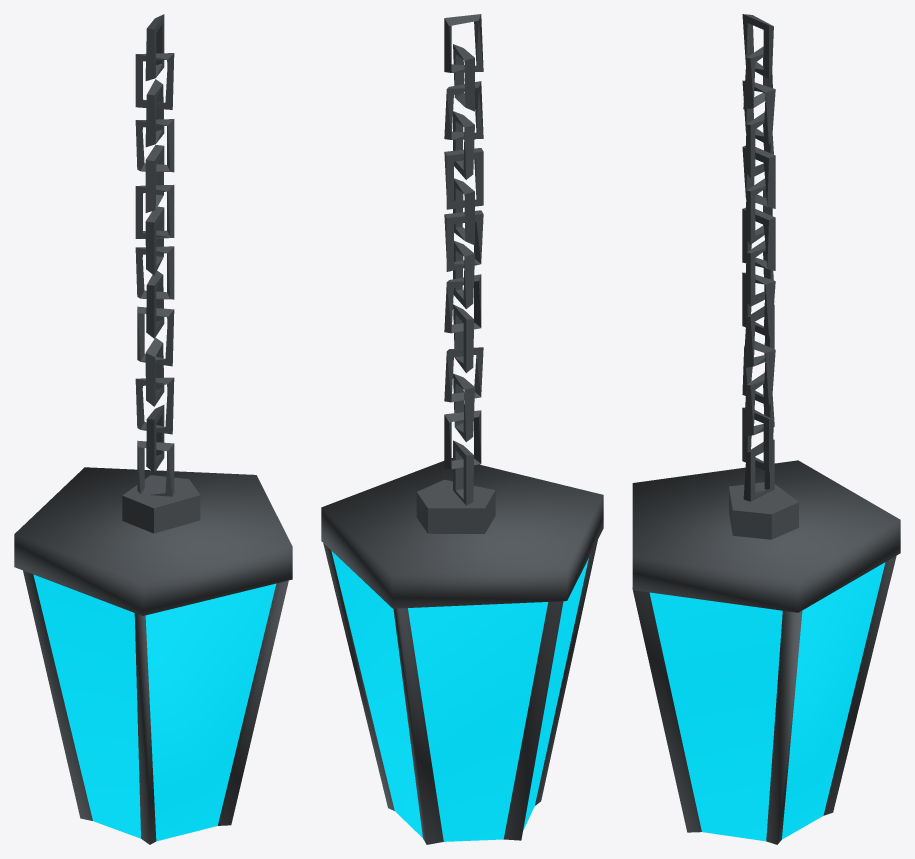
The model's file is Lamp2.glb.
3 renders of one model, left to right at view 1: azimuth 30°, elevation 25°; view 2: azimuth 150°, elevation 25°; view 3: azimuth 270°, elevation 25°, orthographic.
Parts seen in each view (by area): view 1: Lamp1; view 2: Lamp1; view 3: Lamp1.
Part boxes in pixels (x1,y1,x2,y2): Lamp1: [14, 14, 292, 844]; Lamp1: [321, 14, 603, 844]; Lamp1: [632, 14, 900, 844].
Bounding box in the file's own units: 1.8 × 5.59 × 1.71.
